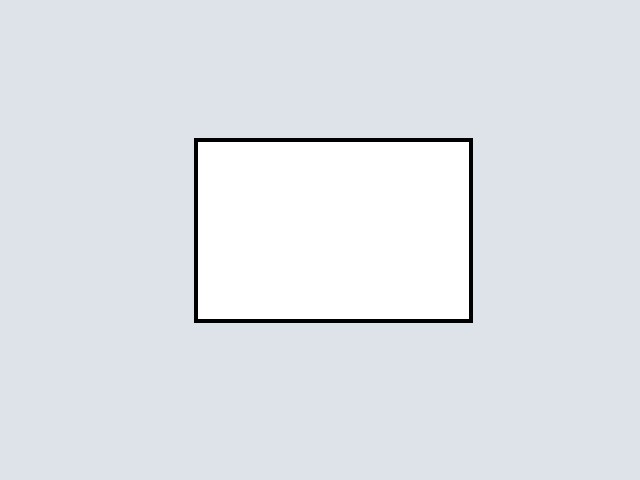clock: (194, 138, 472, 322)
